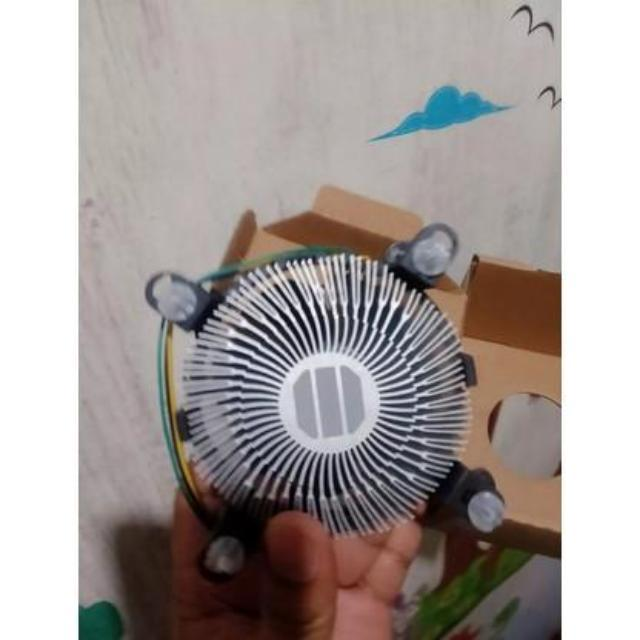CPU_Fan: (132, 229, 516, 577)
